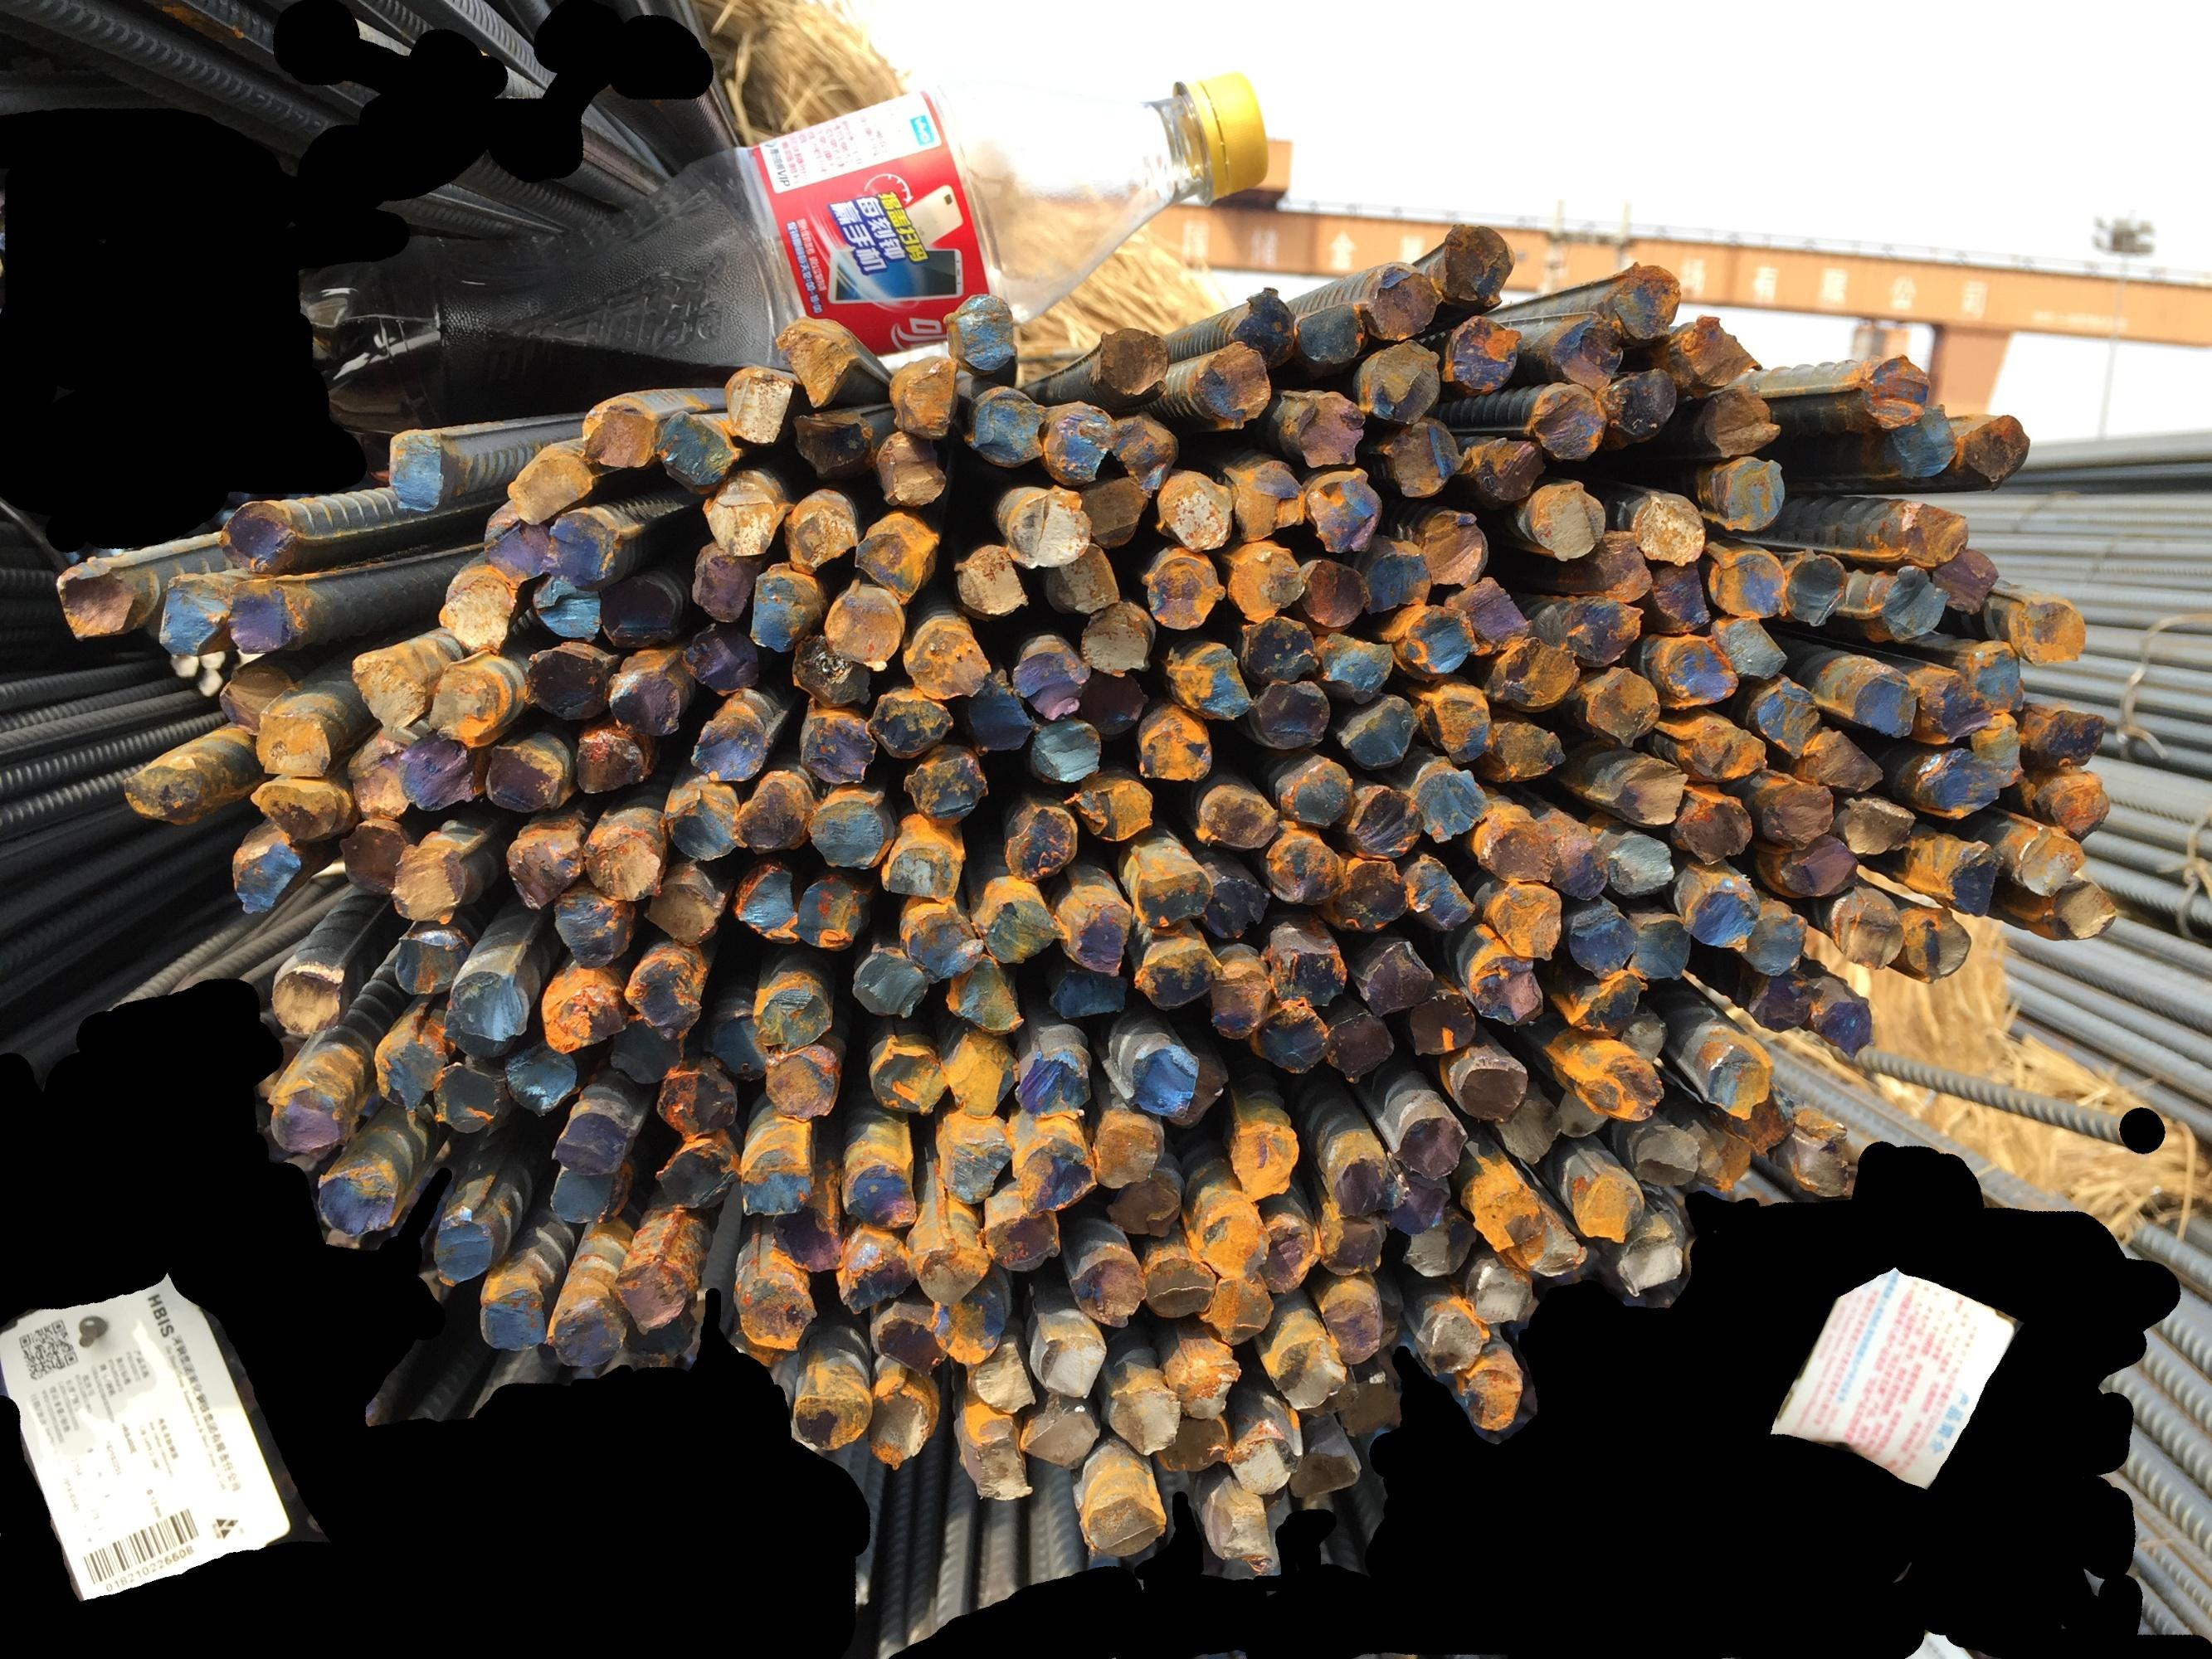bar: (441, 965, 532, 1061), (51, 558, 150, 643), (701, 467, 795, 556), (851, 511, 940, 605), (999, 483, 1091, 570), (537, 967, 626, 1054), (821, 580, 906, 671), (774, 315, 858, 408), (622, 948, 702, 1044), (506, 441, 596, 525), (654, 404, 736, 497), (938, 1028, 1020, 1121), (389, 840, 476, 925), (380, 420, 455, 518), (903, 742, 988, 828), (1356, 338, 1442, 423), (1381, 415, 1466, 500), (436, 566, 518, 655), (1009, 631, 1091, 720), (1440, 573, 1529, 655), (427, 657, 507, 748), (1192, 340, 1272, 430), (1164, 643, 1255, 723), (807, 788, 892, 871), (781, 484, 859, 575), (551, 885, 634, 969), (943, 951, 1025, 1037), (248, 777, 350, 845), (903, 619, 990, 699), (1140, 551, 1227, 631), (1490, 636, 1581, 713), (734, 1270, 818, 1352), (964, 383, 1044, 469), (1011, 1133, 1096, 1213), (1581, 664, 1661, 749), (213, 498, 302, 575), (1306, 465, 1382, 554), (120, 755, 211, 829), (502, 828, 584, 910), (1462, 1168, 1544, 1249), (396, 728, 476, 812), (837, 1229, 917, 1312), (899, 903, 983, 983), (1337, 692, 1421, 772), (223, 580, 310, 657), (316, 1161, 403, 1237), (941, 291, 1018, 378), (1438, 221, 1515, 308), (265, 1080, 354, 1155), (868, 1377, 940, 1469), (1075, 1486, 1168, 1558), (523, 643, 607, 721), (572, 396, 657, 472), (1917, 746, 2003, 823), (1042, 399, 1117, 486), (960, 666, 1034, 755), (1224, 282, 1297, 371), (537, 507, 617, 587), (1285, 389, 1365, 469), (1527, 382, 1607, 462), (1869, 563, 1949, 643), (1877, 401, 1958, 481), (230, 838, 312, 917), (349, 648, 427, 730), (1154, 472, 1232, 554), (1225, 540, 1304, 622), (1443, 314, 1522, 396), (1543, 310, 1625, 389), (371, 1028, 448, 1112), (596, 573, 680, 650), (1410, 767, 1494, 843), (1393, 603, 1476, 680), (1656, 633, 1740, 709), (884, 354, 959, 439), (906, 1230, 992, 1305), (1675, 314, 1762, 387), (270, 957, 350, 1035), (950, 542, 1028, 622), (1077, 598, 1156, 678), (762, 1044, 842, 1122), (1265, 1333, 1347, 1410), (1529, 479, 1605, 561), (431, 1204, 506, 1288), (690, 538, 765, 622), (746, 568, 821, 652), (1231, 458, 1306, 542), (1958, 411, 2032, 495), (1837, 664, 1921, 739), (155, 570, 227, 657), (483, 742, 570, 814), (1578, 1049, 1665, 1121), (549, 1108, 640, 1176), (1558, 969, 1649, 1037), (432, 1058, 511, 1136), (502, 1037, 579, 1117), (1356, 938, 1433, 1018), (1415, 685, 1492, 765), (1626, 488, 1706, 565), (1853, 352, 1930, 432), (546, 1291, 628, 1366), (790, 634, 872, 709), (655, 1066, 737, 1141), (1363, 260, 1438, 342), (1607, 258, 1682, 340), (253, 706, 336, 779), (678, 622, 762, 695), (1131, 945, 1224, 1011), (790, 410, 875, 481), (882, 831, 967, 903), (654, 1140, 741, 1209), (725, 359, 793, 448), (1001, 802, 1077, 880), (1250, 999, 1328, 1075), (1569, 1166, 1645, 1244), (1917, 667, 1994, 746), (797, 709, 877, 784), (1067, 1253, 1147, 1328), (1314, 633, 1394, 708), (1609, 755, 1689, 829), (2008, 824, 2088, 899), (737, 772, 811, 854), (1018, 1398, 1100, 1471), (1705, 545, 1787, 619), (1701, 1039, 1774, 1121), (1464, 953, 1548, 1025), (1750, 676, 1822, 760), (1768, 833, 1860, 897), (976, 897, 1065, 964), (335, 819, 411, 896), (607, 660, 683, 737), (1103, 1378, 1180, 1455), (216, 662, 295, 737), (1123, 1040, 1198, 1119), (1710, 453, 1785, 532), (392, 925, 472, 999), (868, 1042, 948, 1115), (689, 711, 770, 782), (791, 1380, 873, 1452), (870, 690, 953, 760), (1560, 598, 1644, 667), (1110, 408, 1177, 495), (1042, 540, 1119, 615), (2012, 592, 2088, 667), (584, 828, 662, 901), (1703, 385, 1781, 458), (345, 732, 410, 821), (2032, 878, 2121, 943), (573, 723, 654, 795), (849, 946, 929, 1018), (1229, 1121, 1300, 1201), (1388, 1107, 1468, 1178), (1417, 507, 1489, 587), (1567, 899, 1637, 981), (1733, 906, 1815, 976), (612, 1267, 695, 1335), (1069, 777, 1154, 843), (734, 859, 798, 946), (662, 788, 737, 863), (1335, 857, 1410, 932), (1349, 786, 1424, 861), (791, 875, 865, 951), (1032, 1323, 1105, 1399), (938, 1127, 1011, 1204), (1194, 1204, 1271, 1277), (1198, 1274, 1274, 1347), (1400, 1206, 1476, 1279), (870, 1309, 948, 1380), (1013, 1049, 1091, 1121), (1252, 680, 1330, 751), (1891, 498, 1970, 570), (481, 502, 551, 582), (1164, 1347, 1245, 1417), (1239, 613, 1320, 683), (1933, 836, 2003, 917), (1680, 721, 1769, 784), (643, 878, 725, 946), (1131, 864, 1213, 932), (1476, 816, 1558, 884), (1096, 326, 1170, 401), (1077, 476, 1150, 551), (959, 1425, 1032, 1500), (1602, 366, 1677, 439), (931, 1293, 1008, 1364), (1490, 884, 1562, 960), (1325, 1006, 1394, 1084), (1682, 882, 1761, 951), (751, 985, 831, 1053), (1408, 852, 1476, 932), (1487, 716, 1567, 784), (549, 1161, 633, 1225), (1279, 756, 1353, 829), (875, 430, 947, 505), (1299, 556, 1370, 631), (607, 1014, 683, 1084), (1903, 906, 1971, 985), (1196, 786, 1278, 850), (530, 570, 601, 643), (842, 1157, 915, 1229), (769, 1202, 844, 1272), (739, 1147, 814, 1216), (966, 1338, 1035, 1413), (1140, 1249, 1215, 1319), (1267, 840, 1347, 904), (1783, 544, 1848, 624), (1070, 894, 1133, 976), (1614, 1225, 1686, 1297), (1682, 793, 1754, 864), (1832, 899, 1905, 969), (1137, 713, 1211, 781), (701, 1006, 767, 1082), (1105, 1171, 1182, 1237), (1208, 964, 1272, 1042), (1320, 1288, 1384, 1366), (1255, 1218, 1320, 1297), (1166, 1051, 1229, 1131), (1415, 1302, 1483, 1375), (1762, 779, 1835, 847), (1211, 1499, 1278, 1574), (1584, 528, 1651, 603), (1713, 613, 1788, 680), (1808, 725, 1883, 791), (1328, 1152, 1405, 1216), (981, 1211, 1062, 1272), (1790, 1117, 1851, 1197), (1837, 795, 1917, 856), (1095, 1119, 1164, 1188), (1930, 547, 1999, 617), (478, 1279, 546, 1351), (1027, 716, 1100, 782), (1473, 436, 1546, 502), (1454, 1054, 1527, 1121), (1044, 965, 1130, 1021), (2027, 708, 2107, 767), (1203, 870, 1271, 939), (1494, 1096, 1562, 1166), (1077, 669, 1149, 735), (1295, 300, 1367, 366), (1405, 992, 1476, 1058), (1724, 1089, 1795, 1155), (1647, 559, 1712, 633), (2039, 775, 2118, 835), (1229, 1432, 1302, 1495), (1154, 1413, 1231, 1473), (1361, 547, 1429, 613), (1605, 831, 1673, 897), (1382, 1171, 1452, 1236), (1963, 640, 2027, 709), (1271, 946, 1347, 1004), (1626, 915, 1693, 981), (1318, 1213, 1386, 1277), (1745, 972, 1815, 1035), (1968, 709, 2025, 784), (1468, 1262, 1534, 1326), (1632, 1124, 1700, 1187), (1546, 831, 1607, 901), (1520, 1216, 1590, 1277), (1462, 1364, 1525, 1431), (1811, 993, 1874, 1058), (619, 1309, 695, 1361), (1339, 1373, 1398, 1439), (1694, 1124, 1752, 1192), (1286, 1450, 1363, 1500), (1297, 1366, 1360, 1419), (1555, 1087, 1607, 1138), (1618, 1011, 1668, 1063), (1374, 1290, 1401, 1354)
